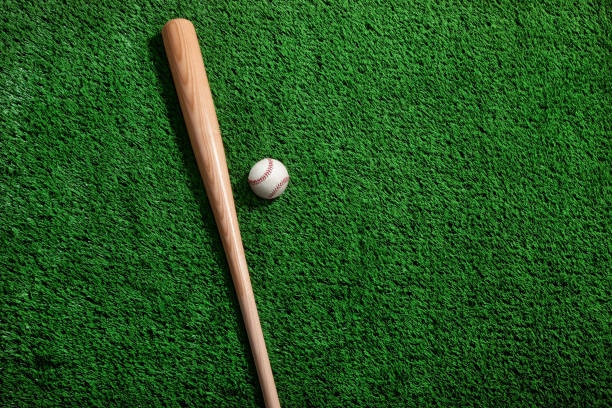bita: (163, 19, 287, 407)
